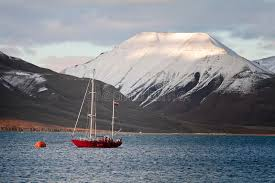buoy: (35, 142, 46, 149)
